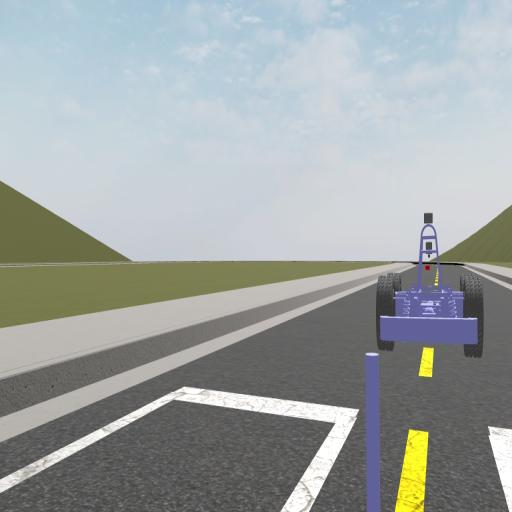ERP-42: (375, 210, 483, 358)
